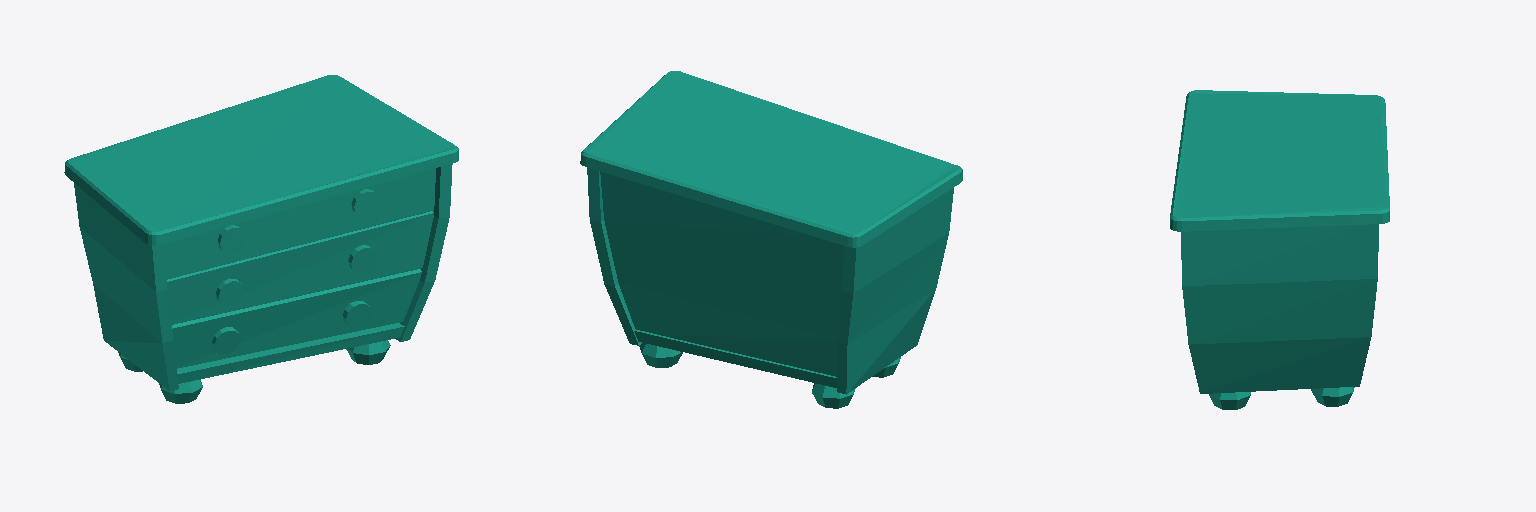
File: Drawer.obj
The picture shows the model from 3 angles: view 1: azimuth 30°, elevation 25°; view 2: azimuth 150°, elevation 25°; view 3: azimuth 270°, elevation 25°; orthographic projection.
Visible parts, largest first — view 1: Drawer; view 2: Drawer; view 3: Drawer.
Boxes of the visible parts, x1=… form: Drawer: x1=64, y1=75, x2=458, y2=403; Drawer: x1=580, y1=71, x2=962, y2=408; Drawer: x1=1170, y1=90, x2=1389, y2=409.
Size of the model in its own units: 99.41 by 69.19 by 62.48.